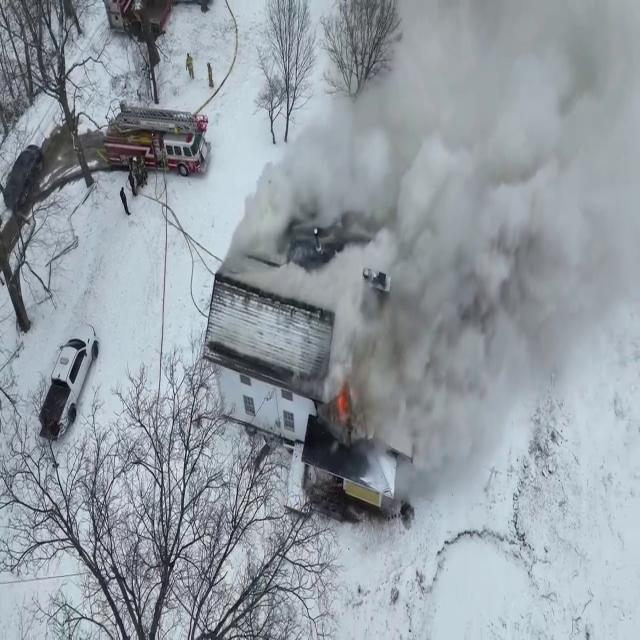Smoke: (317, 0, 637, 500)
